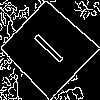I: (23, 23, 67, 66)
